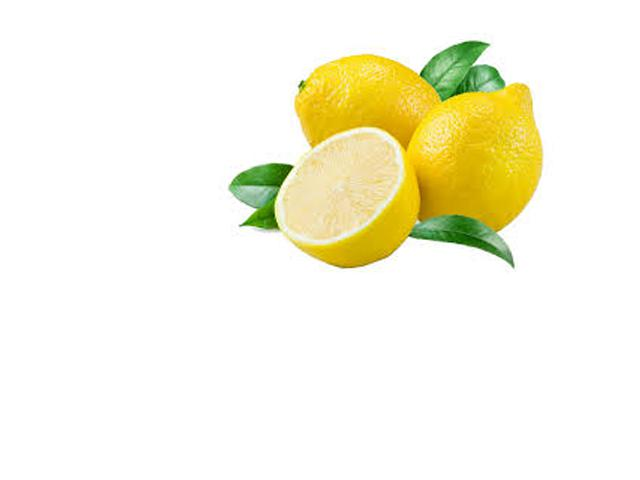lemon: (398, 63, 551, 250)
